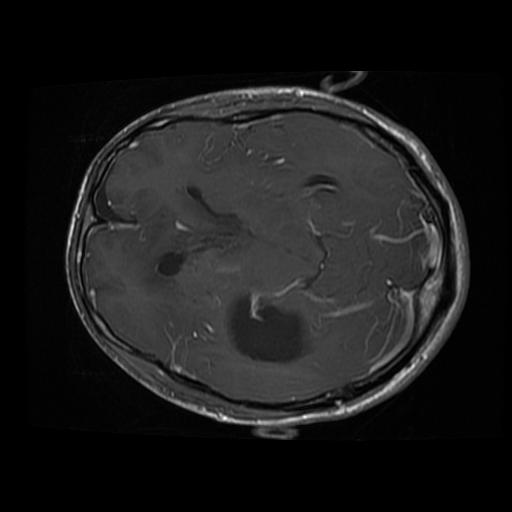glioma: (223, 287, 308, 363)
